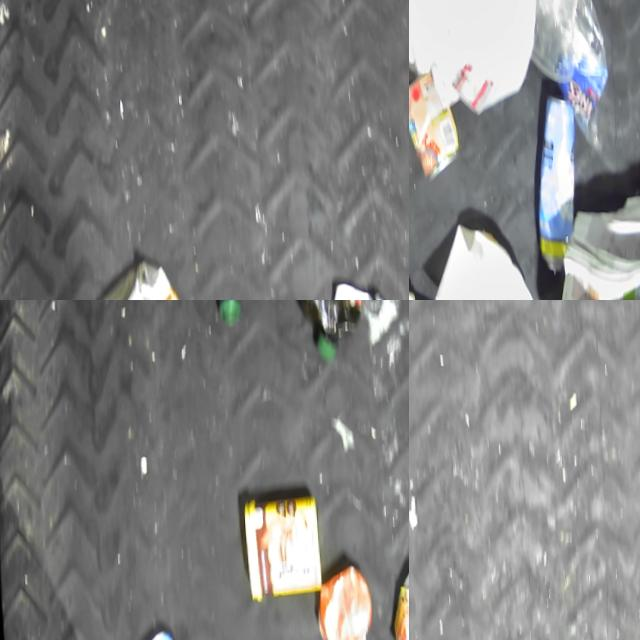can: (530, 95, 584, 277), (409, 70, 462, 186)
milk_jug: (409, 0, 543, 119)
non_white_jug: (242, 495, 324, 605), (409, 264, 469, 300)
